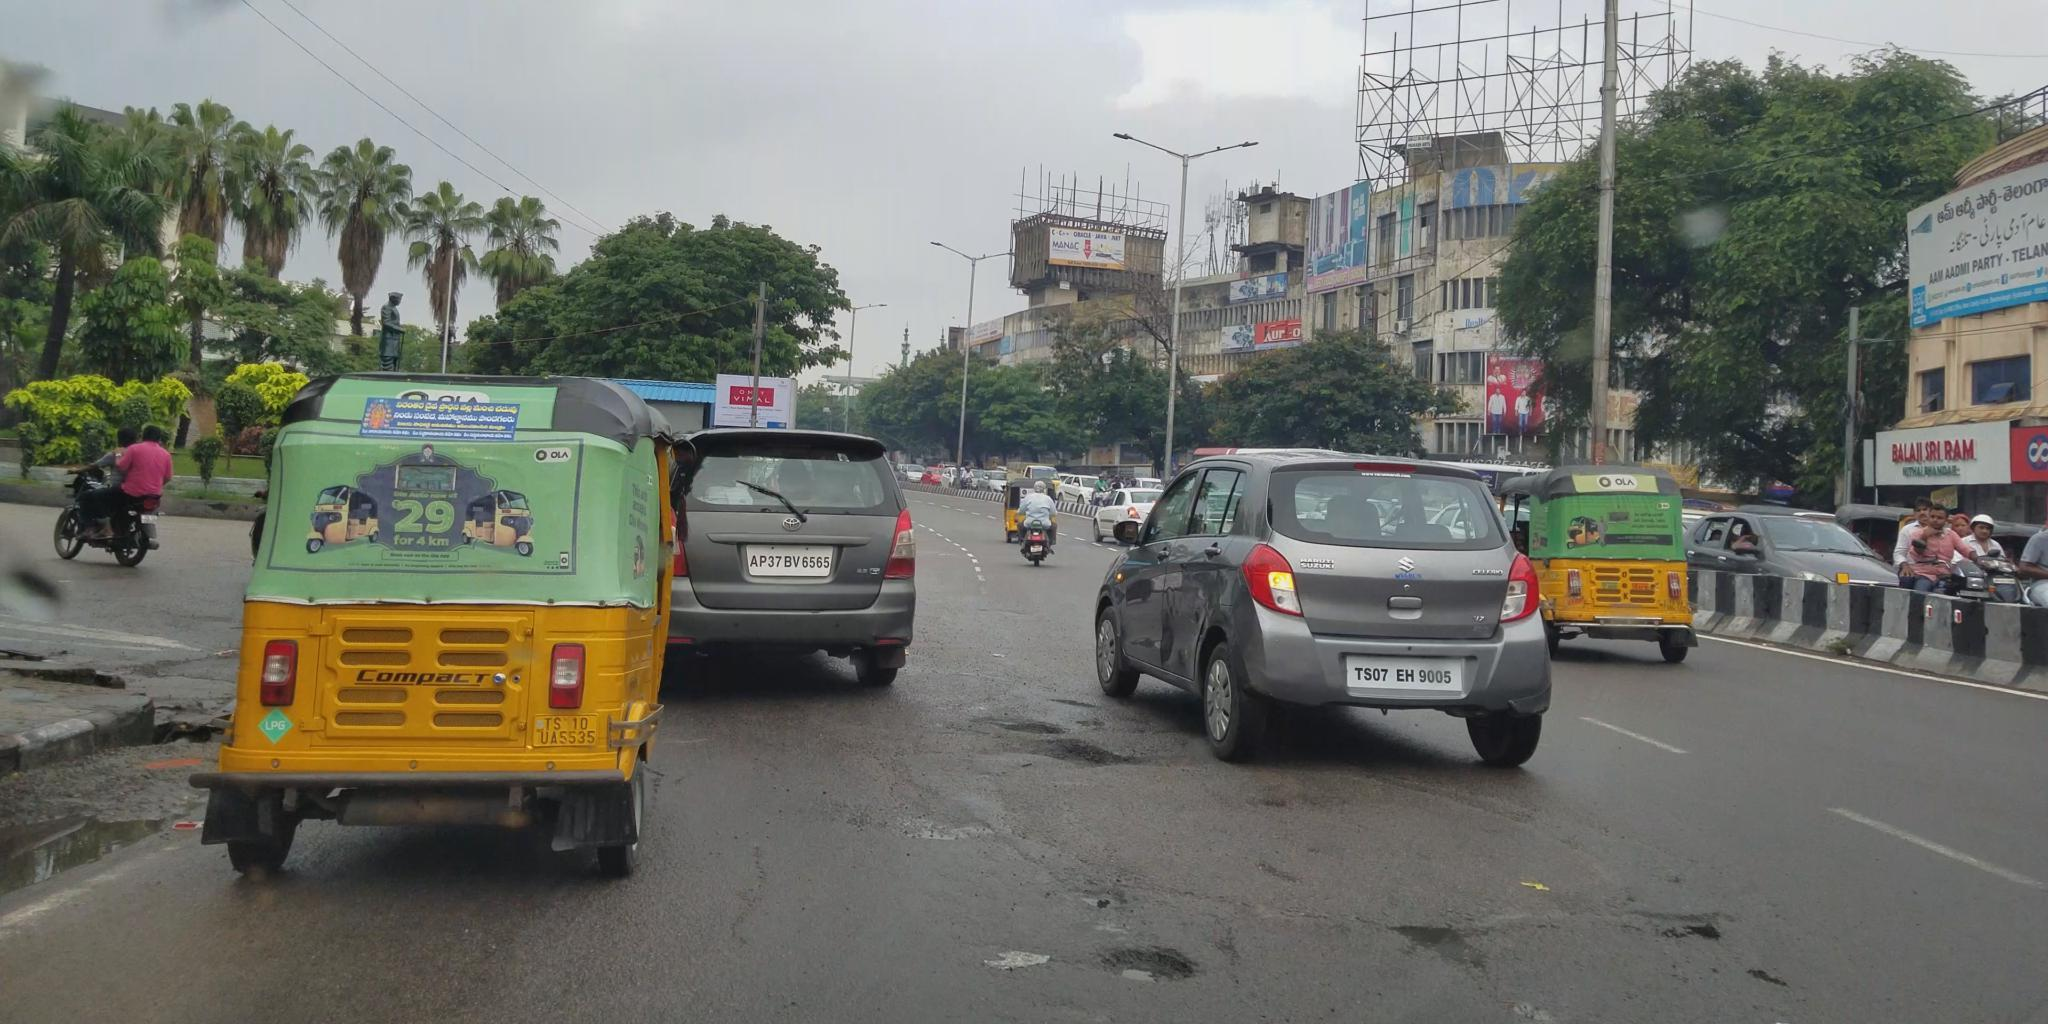off: (71, 0, 2048, 1024)
